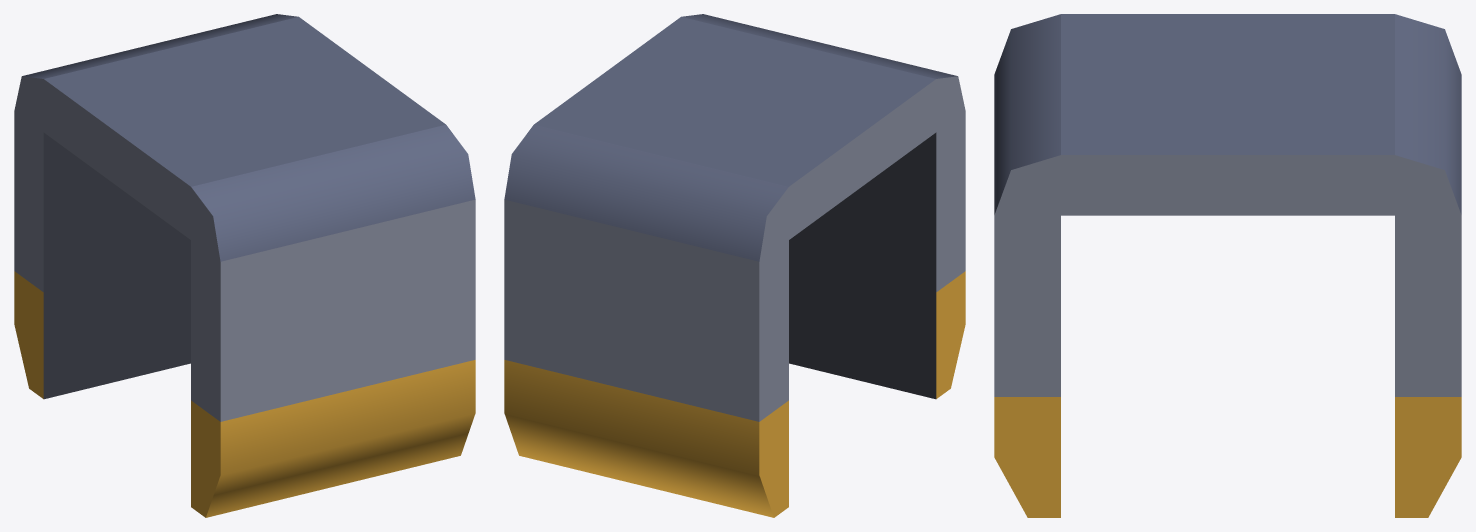
File: CoverStripe-transformed.glb
3 views of the same model, side by side, from view 1: azimuth 30°, elevation 25°; view 2: azimuth 150°, elevation 25°; view 3: azimuth 270°, elevation 25° (orthographic). The views are drawn at different scales.
Visible parts, largest first — view 1: cover-stripe; view 2: cover-stripe; view 3: cover-stripe.
Part boxes in pixels (x1,y1,x2,y2): cover-stripe: (14, 14, 475, 517); cover-stripe: (504, 14, 965, 517); cover-stripe: (994, 14, 1461, 517).
Bounding box in the file's own units: 1 × 1.2 × 1.4.
